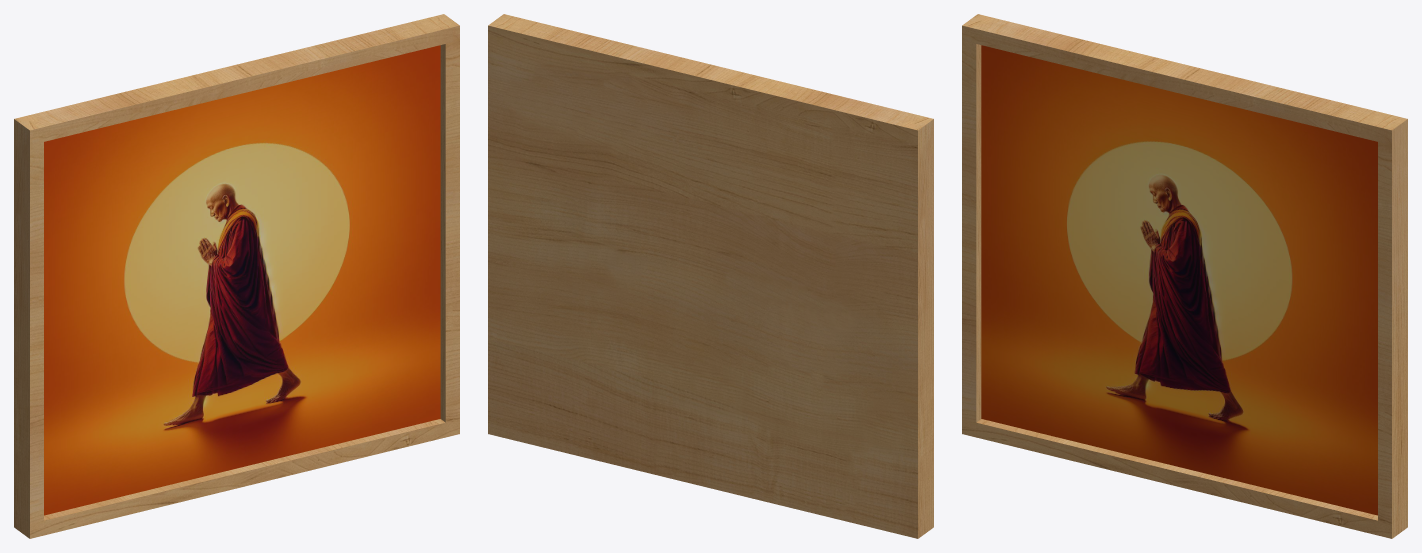
File: Picture 15.fbx
3 renders of one model, left to right at view 1: azimuth 30°, elevation 25°; view 2: azimuth 150°, elevation 25°; view 3: azimuth 330°, elevation 25°, orthographic.
Parts seen in each view (by area): view 1: picture 15; view 2: picture 15; view 3: picture 15.
Part boxes in pixels (box(x1,y1,x2,y2)): picture 15: box(14, 14, 459, 538); picture 15: box(488, 14, 933, 538); picture 15: box(962, 14, 1407, 538).
Size of the model in its own units: 113 by 103 by 7.19.
2 materials, 2 textured.
